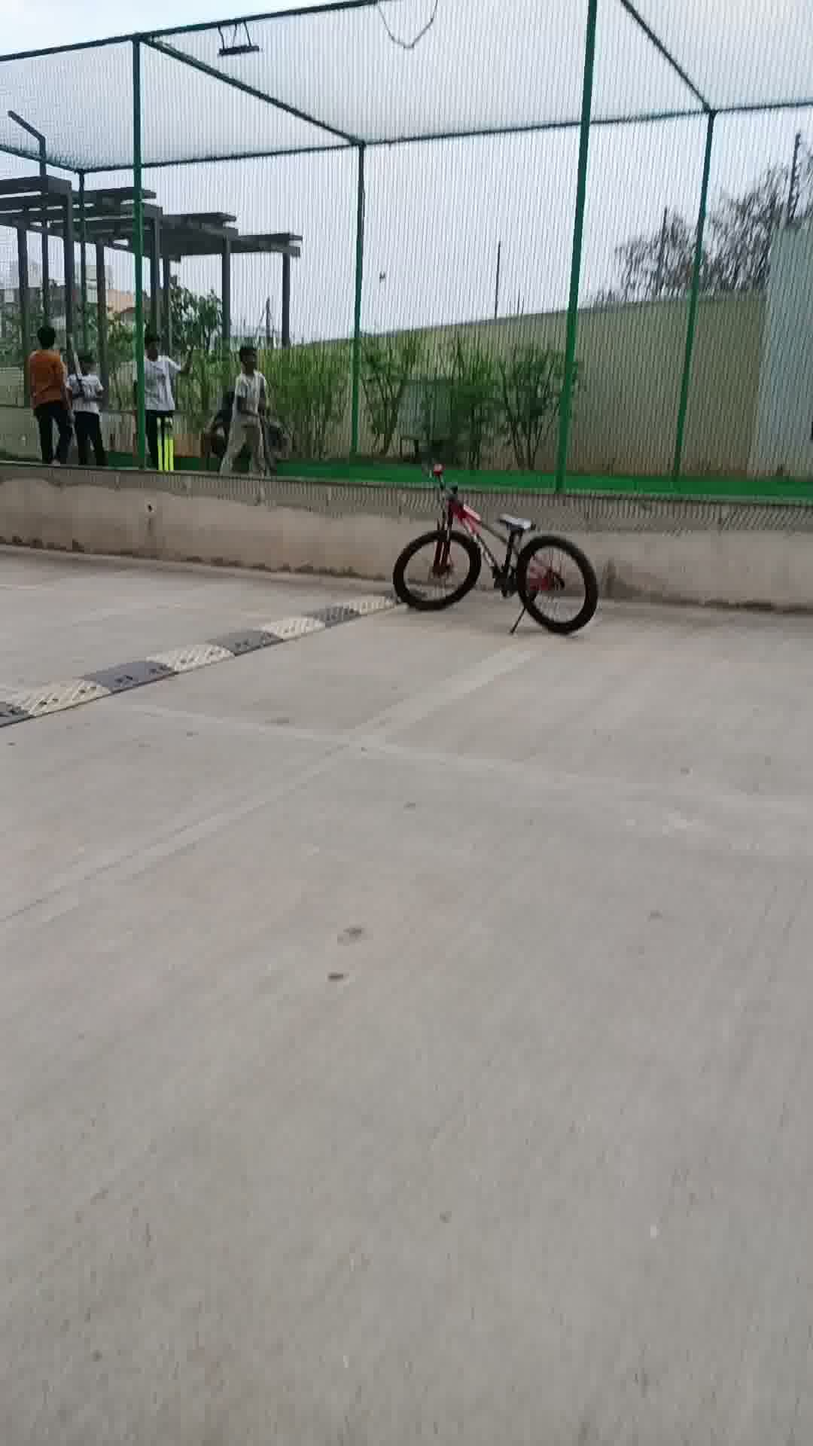bicycle: (398, 447, 617, 652)
person: (18, 313, 90, 497), (123, 313, 192, 479), (220, 328, 273, 475), (67, 335, 118, 475)
